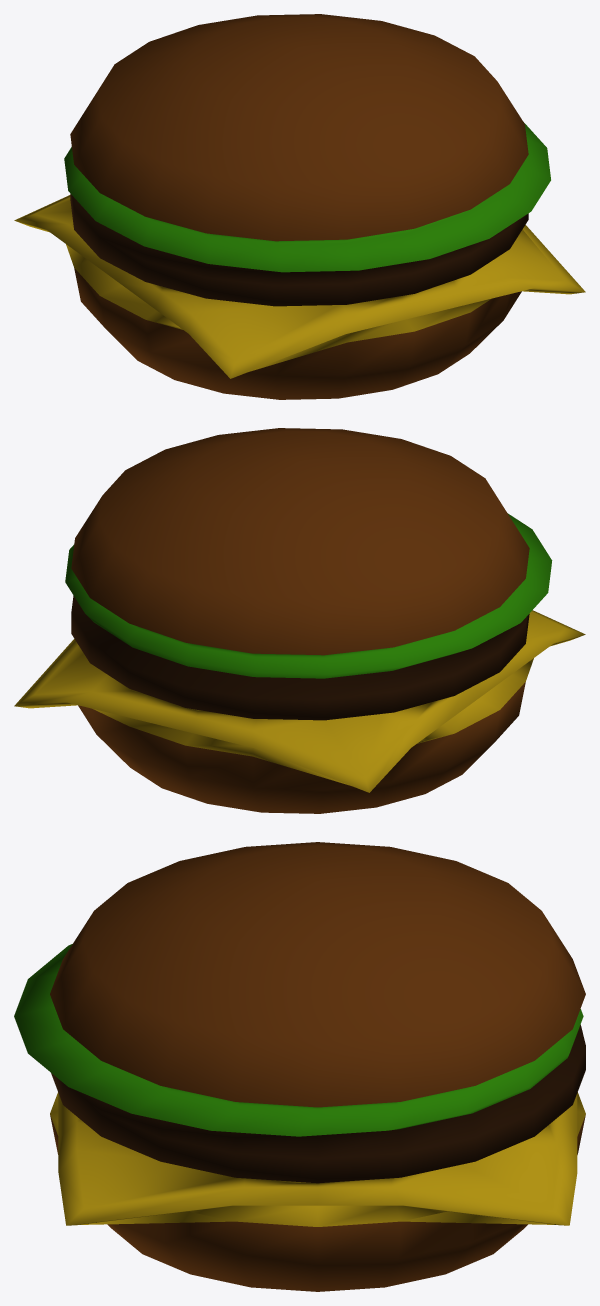
Rendered from Food Court_Burger.fbx.
3 renders of one model, top to bottom at view 1: azimuth 30°, elevation 25°; view 2: azimuth 150°, elevation 25°; view 3: azimuth 270°, elevation 25°, orthographic. The views are drawn at different scales.
Visible parts, largest first — view 1: pCylinder4; view 2: pCylinder4; view 3: pCylinder4.
Boxes of the visible parts, left/top/right/bottom form: pCylinder4: left=14, top=14, right=585, bottom=399; pCylinder4: left=14, top=428, right=585, bottom=813; pCylinder4: left=14, top=842, right=585, bottom=1291.
Size of the model in its own units: 0.4414 by 0.2823 by 0.4432.
